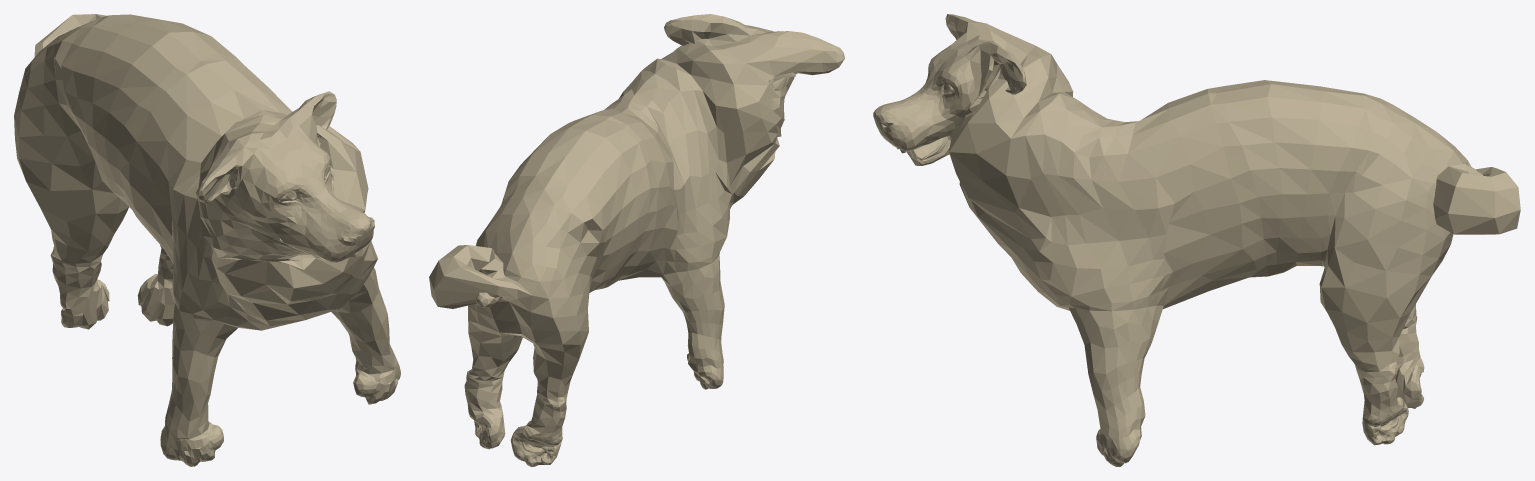
3 views of the same model, side by side, from view 1: azimuth 30°, elevation 25°; view 2: azimuth 150°, elevation 25°; view 3: azimuth 270°, elevation 25° (orthographic). The views are drawn at different scales.
Parts seen in each view (by area): view 1: world; view 2: world; view 3: world.
Part boxes in pixels (x1,y1,x2,y2): world: (14,14,400,466); world: (429,14,844,466); world: (873,14,1520,466).
Bounding box in the file's own units: 0.5419 × 0.6943 × 1.09.
